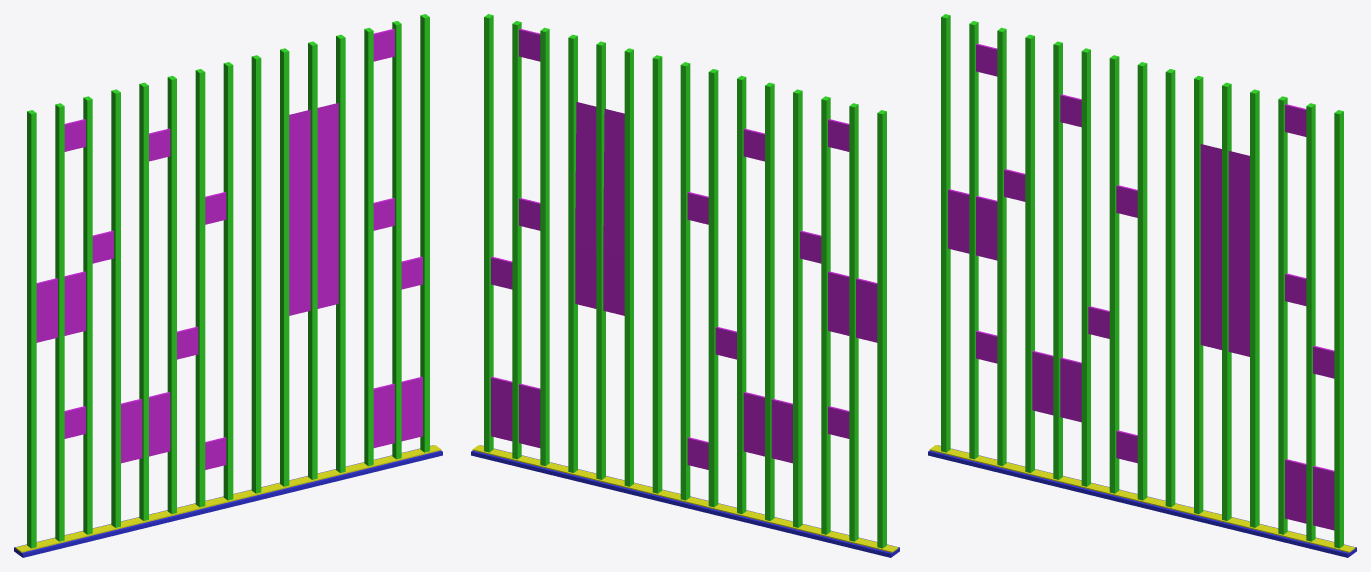
The model's file is Partition_Wall_04_B.fbx.
3 renders of one model, left to right at view 1: azimuth 30°, elevation 25°; view 2: azimuth 150°, elevation 25°; view 3: azimuth 330°, elevation 25°, orthographic.
Visible parts, largest first — view 1: Partition_Wall_04_B_01, Partition_Wall_04_B_02, Partition_Wall_04_B_Base; view 2: Partition_Wall_04_B_01, Partition_Wall_04_B_02, Partition_Wall_04_B_Base; view 3: Partition_Wall_04_B_01, Partition_Wall_04_B_02, Partition_Wall_04_B_Base.
Boxes of the visible parts, box(x1,y1,x2,y2) form: Partition_Wall_04_B_01: box(27, 62, 233, 548); Partition_Wall_04_B_02: box(251, 14, 429, 493); Partition_Wall_04_B_Base: box(14, 445, 442, 557); Partition_Wall_04_B_01: box(680, 62, 886, 548); Partition_Wall_04_B_02: box(484, 14, 662, 493); Partition_Wall_04_B_Base: box(471, 445, 899, 557); Partition_Wall_04_B_01: box(941, 14, 1147, 500); Partition_Wall_04_B_02: box(1165, 69, 1343, 548); Partition_Wall_04_B_Base: box(928, 445, 1356, 557).
Bounding box in the file's own units: 457 × 457 × 16.77.
